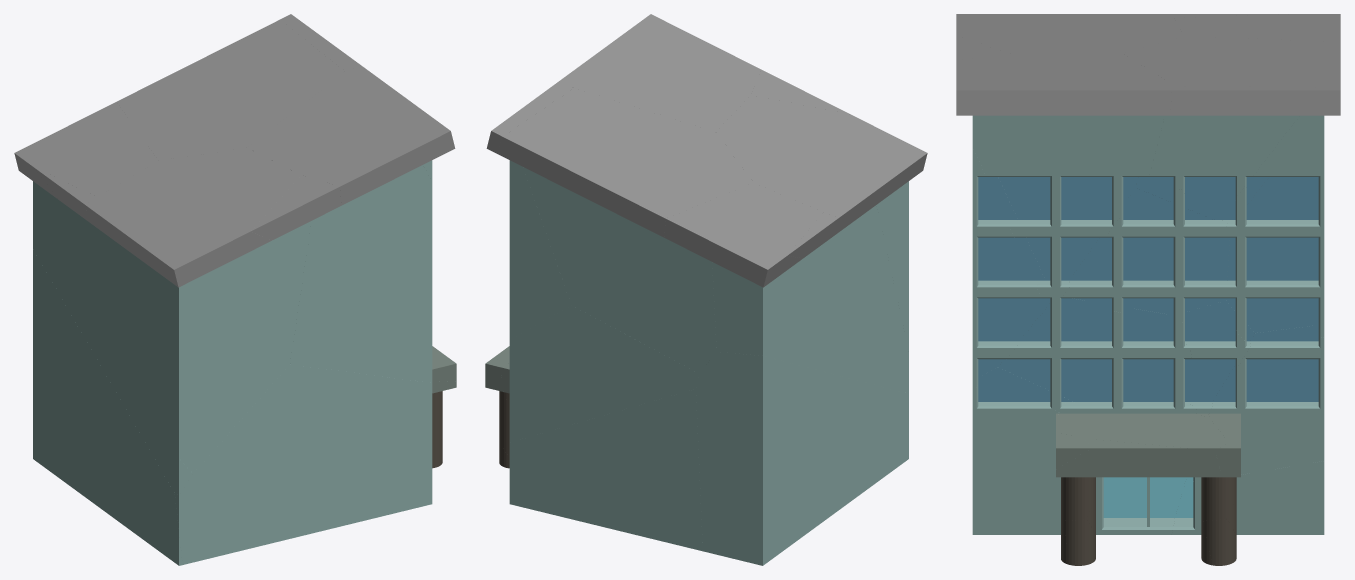
Rendered from Edificio_05.fbx.
3 renders of one model, left to right at view 1: azimuth 30°, elevation 25°; view 2: azimuth 150°, elevation 25°; view 3: azimuth 270°, elevation 25°, orthographic. The views are drawn at different scales.
Parts seen in each view (by area): view 1: Cube.016_cell.008, Cube.016_cell.003, Cube.016_cell.016, Cube.016_cell.017, Cube.016_cell.009, Cube.017_cell, Cube.017_cell.002, Cube.017_cell.006, Cube.017_cell.001, Cube.017_cell.003, Cube.017_cell.005, Cube.017_cell.004 (+1 smaller); view 2: Cube.016_cell.017, Cube.016_cell.009, Cube.016_cell.015, Cube.017_cell.002, Cube.016_cell.011, Cube.017_cell, Cube.016_cell.007, Cube.017_cell.006, Cube.017_cell.001, Cube.016_cell.002, Cube.016_cell.016, Cube.017_cell.003 (+2 smaller); view 3: Cube.016_cell.004, Cube.016_cell.010, Cube.016_cell.008, Cube.016_cell.002, Cube.016_cell.019, Cube.016_cell.007, Cube.017_cell.006, Cube.016_cell.011, Cube.016_cell.003, Cube.017_cell.002, Cube.017_cell, Cube.016_cell.015 (+11 smaller).
Part boxes in pixels (bbox=[...]): Cube.016_cell.008: bbox=[174, 364, 432, 564]; Cube.016_cell.003: bbox=[290, 165, 432, 382]; Cube.016_cell.016: bbox=[146, 221, 311, 473]; Cube.016_cell.017: bbox=[33, 249, 182, 565]; Cube.016_cell.009: bbox=[33, 181, 192, 495]; Cube.017_cell: bbox=[85, 148, 300, 287]; Cube.017_cell.002: bbox=[117, 20, 344, 160]; Cube.017_cell.006: bbox=[247, 65, 455, 205]; Cube.017_cell.001: bbox=[14, 102, 158, 198]; Cube.017_cell.003: bbox=[251, 175, 341, 240]; Cube.017_cell.005: bbox=[280, 14, 360, 71]; Cube.017_cell.004: bbox=[34, 167, 97, 221]; Cube.016_cell.017: bbox=[696, 352, 908, 565]; Cube.016_cell.009: bbox=[712, 205, 908, 392]; Cube.016_cell.015: bbox=[509, 389, 702, 551]; Cube.017_cell.002: bbox=[498, 88, 752, 237]; Cube.016_cell.011: bbox=[523, 167, 716, 372]; Cube.017_cell: bbox=[716, 95, 927, 235]; Cube.016_cell.007: bbox=[500, 305, 698, 442]; Cube.017_cell.006: bbox=[561, 14, 761, 131]; Cube.017_cell.001: bbox=[664, 182, 822, 287]; Cube.016_cell.002: bbox=[509, 160, 571, 339]; Cube.016_cell.016: bbox=[876, 181, 908, 350]; Cube.017_cell.003: bbox=[750, 69, 849, 114]; Cube.016_cell.004: bbox=[998, 298, 1228, 454]; Cube.016_cell.010: bbox=[972, 115, 1164, 306]; Cube.016_cell.008: bbox=[972, 367, 1186, 534]; Cube.016_cell.002: bbox=[1222, 115, 1324, 340]; Cube.016_cell.019: bbox=[1059, 187, 1229, 322]; Cube.016_cell.007: bbox=[1193, 325, 1324, 482]; Cube.017_cell.006: bbox=[956, 53, 1175, 115]; Cube.016_cell.011: bbox=[1136, 115, 1299, 221]; Cube.016_cell.003: bbox=[972, 148, 1050, 388]; Cube.017_cell.002: bbox=[1123, 36, 1340, 87]; Cube.017_cell: bbox=[956, 14, 1184, 55]; Cube.016_cell.015: bbox=[1171, 461, 1324, 534].
Size of the model in its own units: 3840 by 4253 by 3281.
